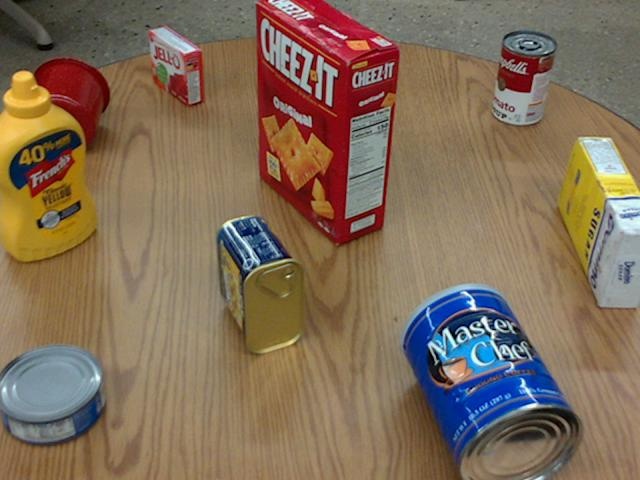cracker_box: (255, 0, 399, 242)
gelatin_box: (152, 27, 205, 105)
large_marker: (308, 0, 321, 62)
master_chef_can: (400, 282, 583, 479)
mug: (19, 57, 111, 154)
mustard_bottle: (0, 71, 97, 260)
potted_meat_can: (214, 215, 304, 354)
sugar_box: (558, 137, 639, 308)
tomato_soup_can: (492, 31, 556, 126)
tuna_fish_can: (0, 344, 104, 442)
